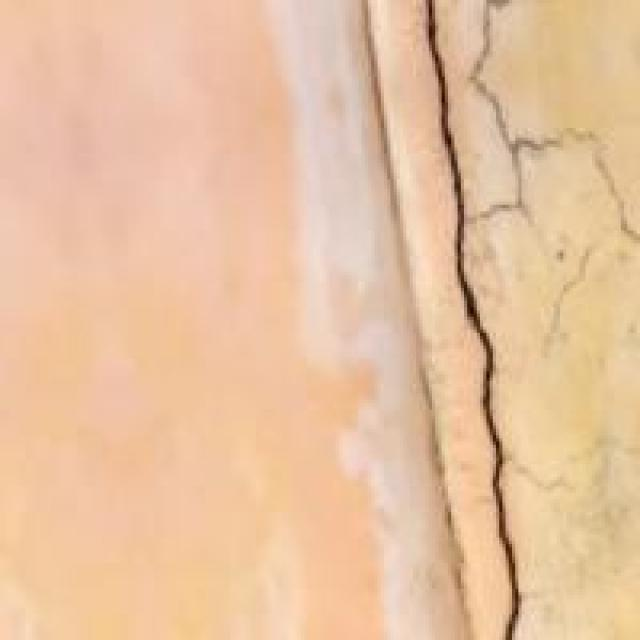crack: (387, 0, 586, 637)
